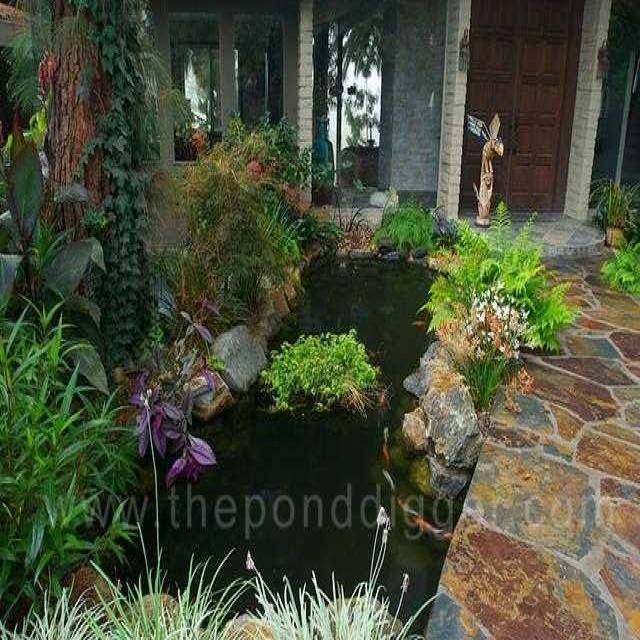Ponds: (62, 221, 495, 640)
